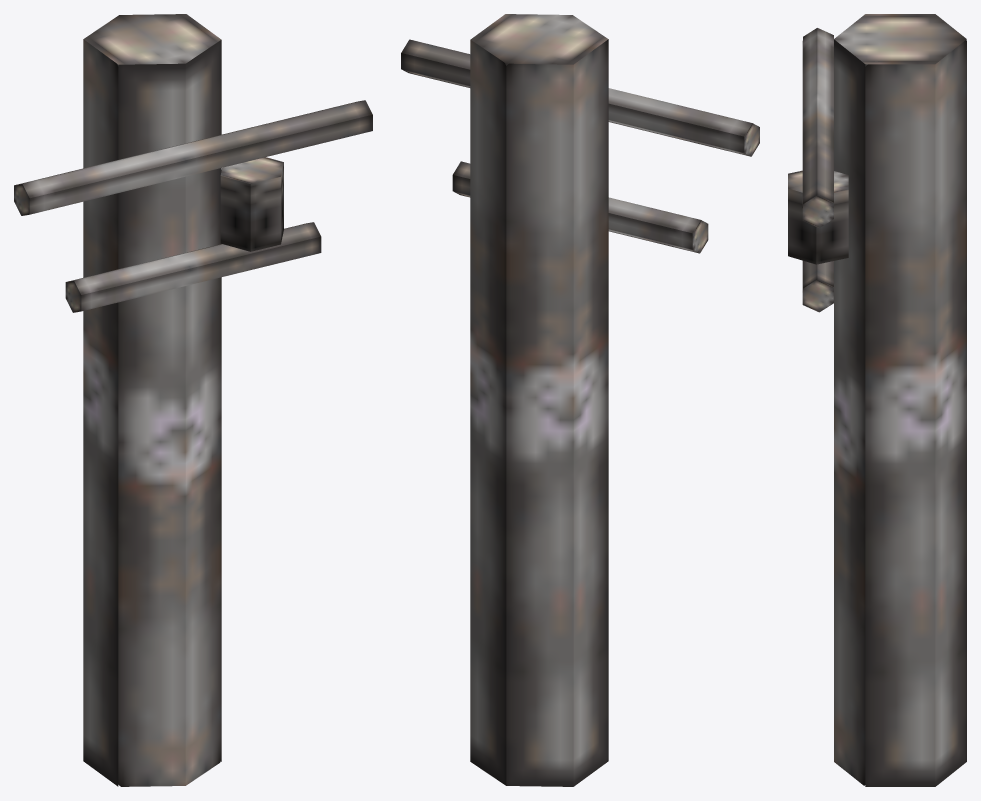
The model's file is Poly_SF_Outside_B_Utility_Pole_01.obj.
The picture shows the model from 3 angles, left to right: view 1: azimuth 30°, elevation 25°; view 2: azimuth 150°, elevation 25°; view 3: azimuth 270°, elevation 25°; orthographic projection.
Parts seen in each view (by area): view 1: Cube.001, Cube.002; view 2: Cube.001, Cube.002; view 3: Cube.001, Cube.002.
Boxes of the visible parts, x1,y1,x2,y2 form: Cube.001: (83,14,221,786); Cube.002: (14,100,372,312); Cube.001: (470,14,608,786); Cube.002: (401,39,759,253); Cube.001: (834,14,966,786); Cube.002: (788,28,848,312).
Size of the model in its own units: 1.99 by 4.01 by 0.8994.
Materials: 1 (1 with a texture image).
